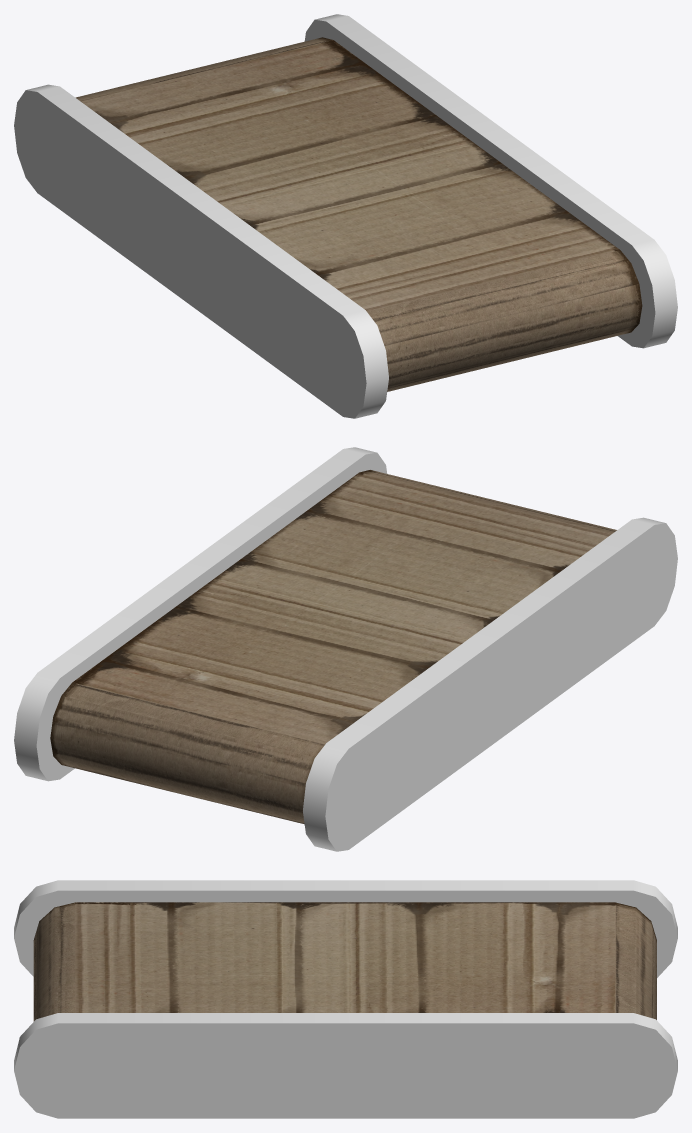
File: Conveer.fbx
3 views of the same model, one above another, from view 1: azimuth 30°, elevation 25°; view 2: azimuth 150°, elevation 25°; view 3: azimuth 270°, elevation 25° (orthographic). The views are drawn at different scales.
Visible parts, largest first — view 1: Cylinder, Cylinder.002, Cylinder.001; view 2: Cylinder, Cylinder.002, Cylinder.001; view 3: Cylinder, Cylinder.001, Cylinder.002.
Boxes of the visible parts, left/top/right/bottom form: Cylinder: left=75, top=37, right=642, bottom=391; Cylinder.002: left=14, top=84, right=388, bottom=418; Cylinder.001: left=304, top=14, right=677, bottom=348; Cylinder: left=50, top=470, right=616, bottom=824; Cylinder.002: left=303, top=517, right=677, bottom=851; Cylinder.001: left=14, top=447, right=387, bottom=781; Cylinder: left=33, top=902, right=656, bottom=1021; Cylinder.001: left=14, top=1013, right=677, bottom=1118; Cylinder.002: left=14, top=880, right=677, bottom=977.
Bounding box in the file's own units: 99.73 × 30.99 × 196.
